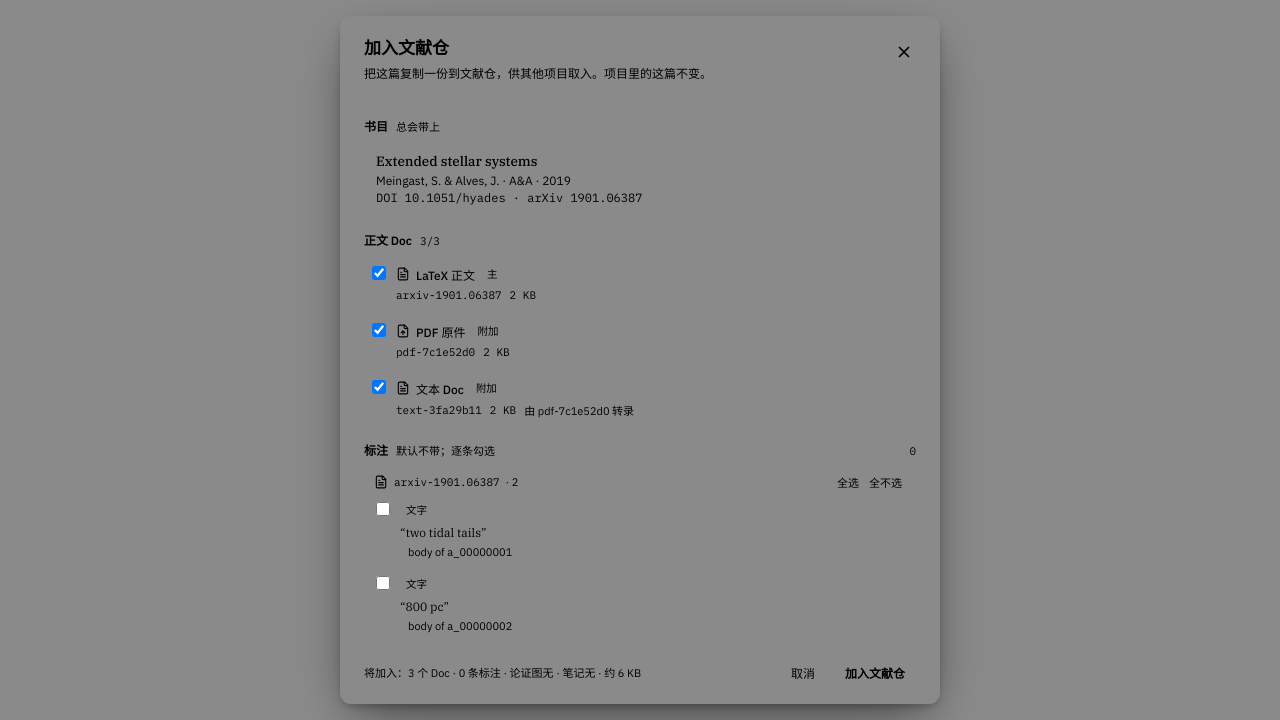
Test: add to Shelf dialog › a part that cannot be read: the dialog stays open, names the Doc and the problem, and says what was not and what was changed
Step 1. Click the button "加入文献仓" → (875, 672), box [834,656,916,688]
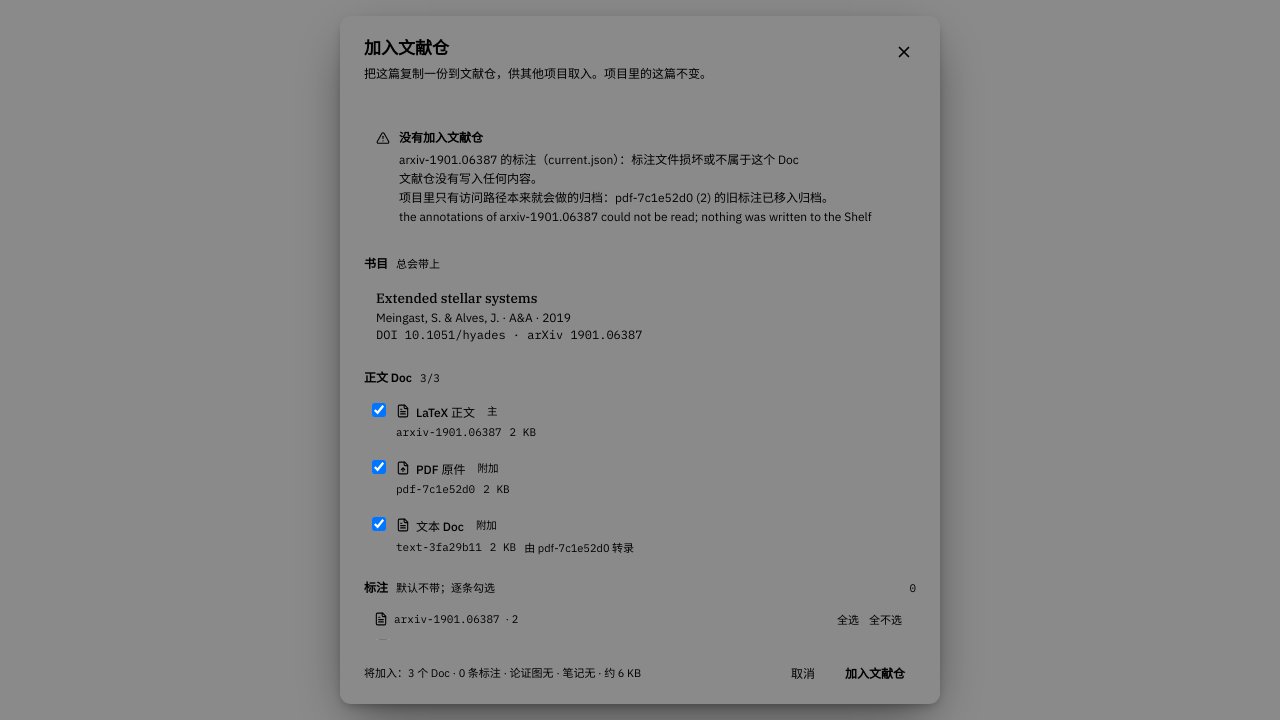
Expected: the message shows "arxiv-1901.06387 的标注（current.json）：标注文件损坏或不属于这个 Doc", [399,152,799,167]
Expected: the message shows "文献仓没有写入任何内容。", [399,171,543,186]
Expected: the message shows "pdf-7c1e52d0 (2)", [399,190,834,205]
